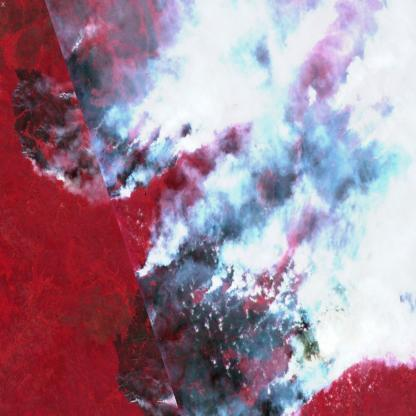fire: (10, 32, 416, 415)
